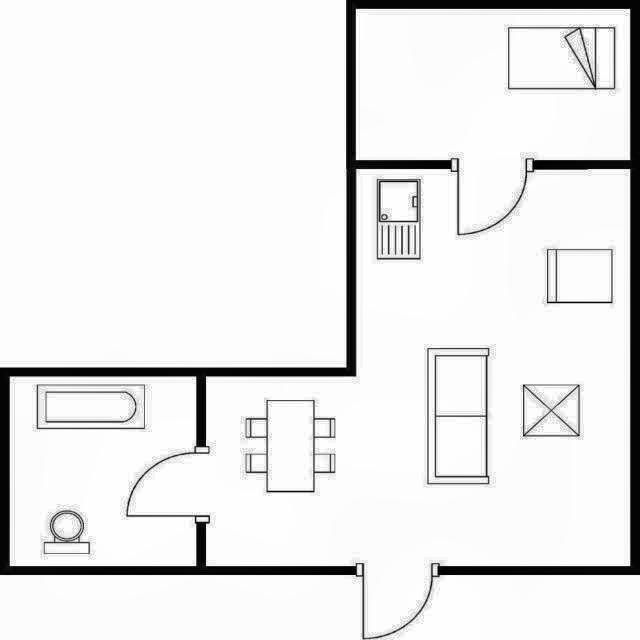room: (206, 169, 630, 566), (356, 9, 630, 160), (10, 376, 196, 566)
